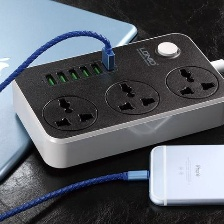phone: (144, 142, 223, 208)
three_eye_plug: (7, 27, 224, 172)
